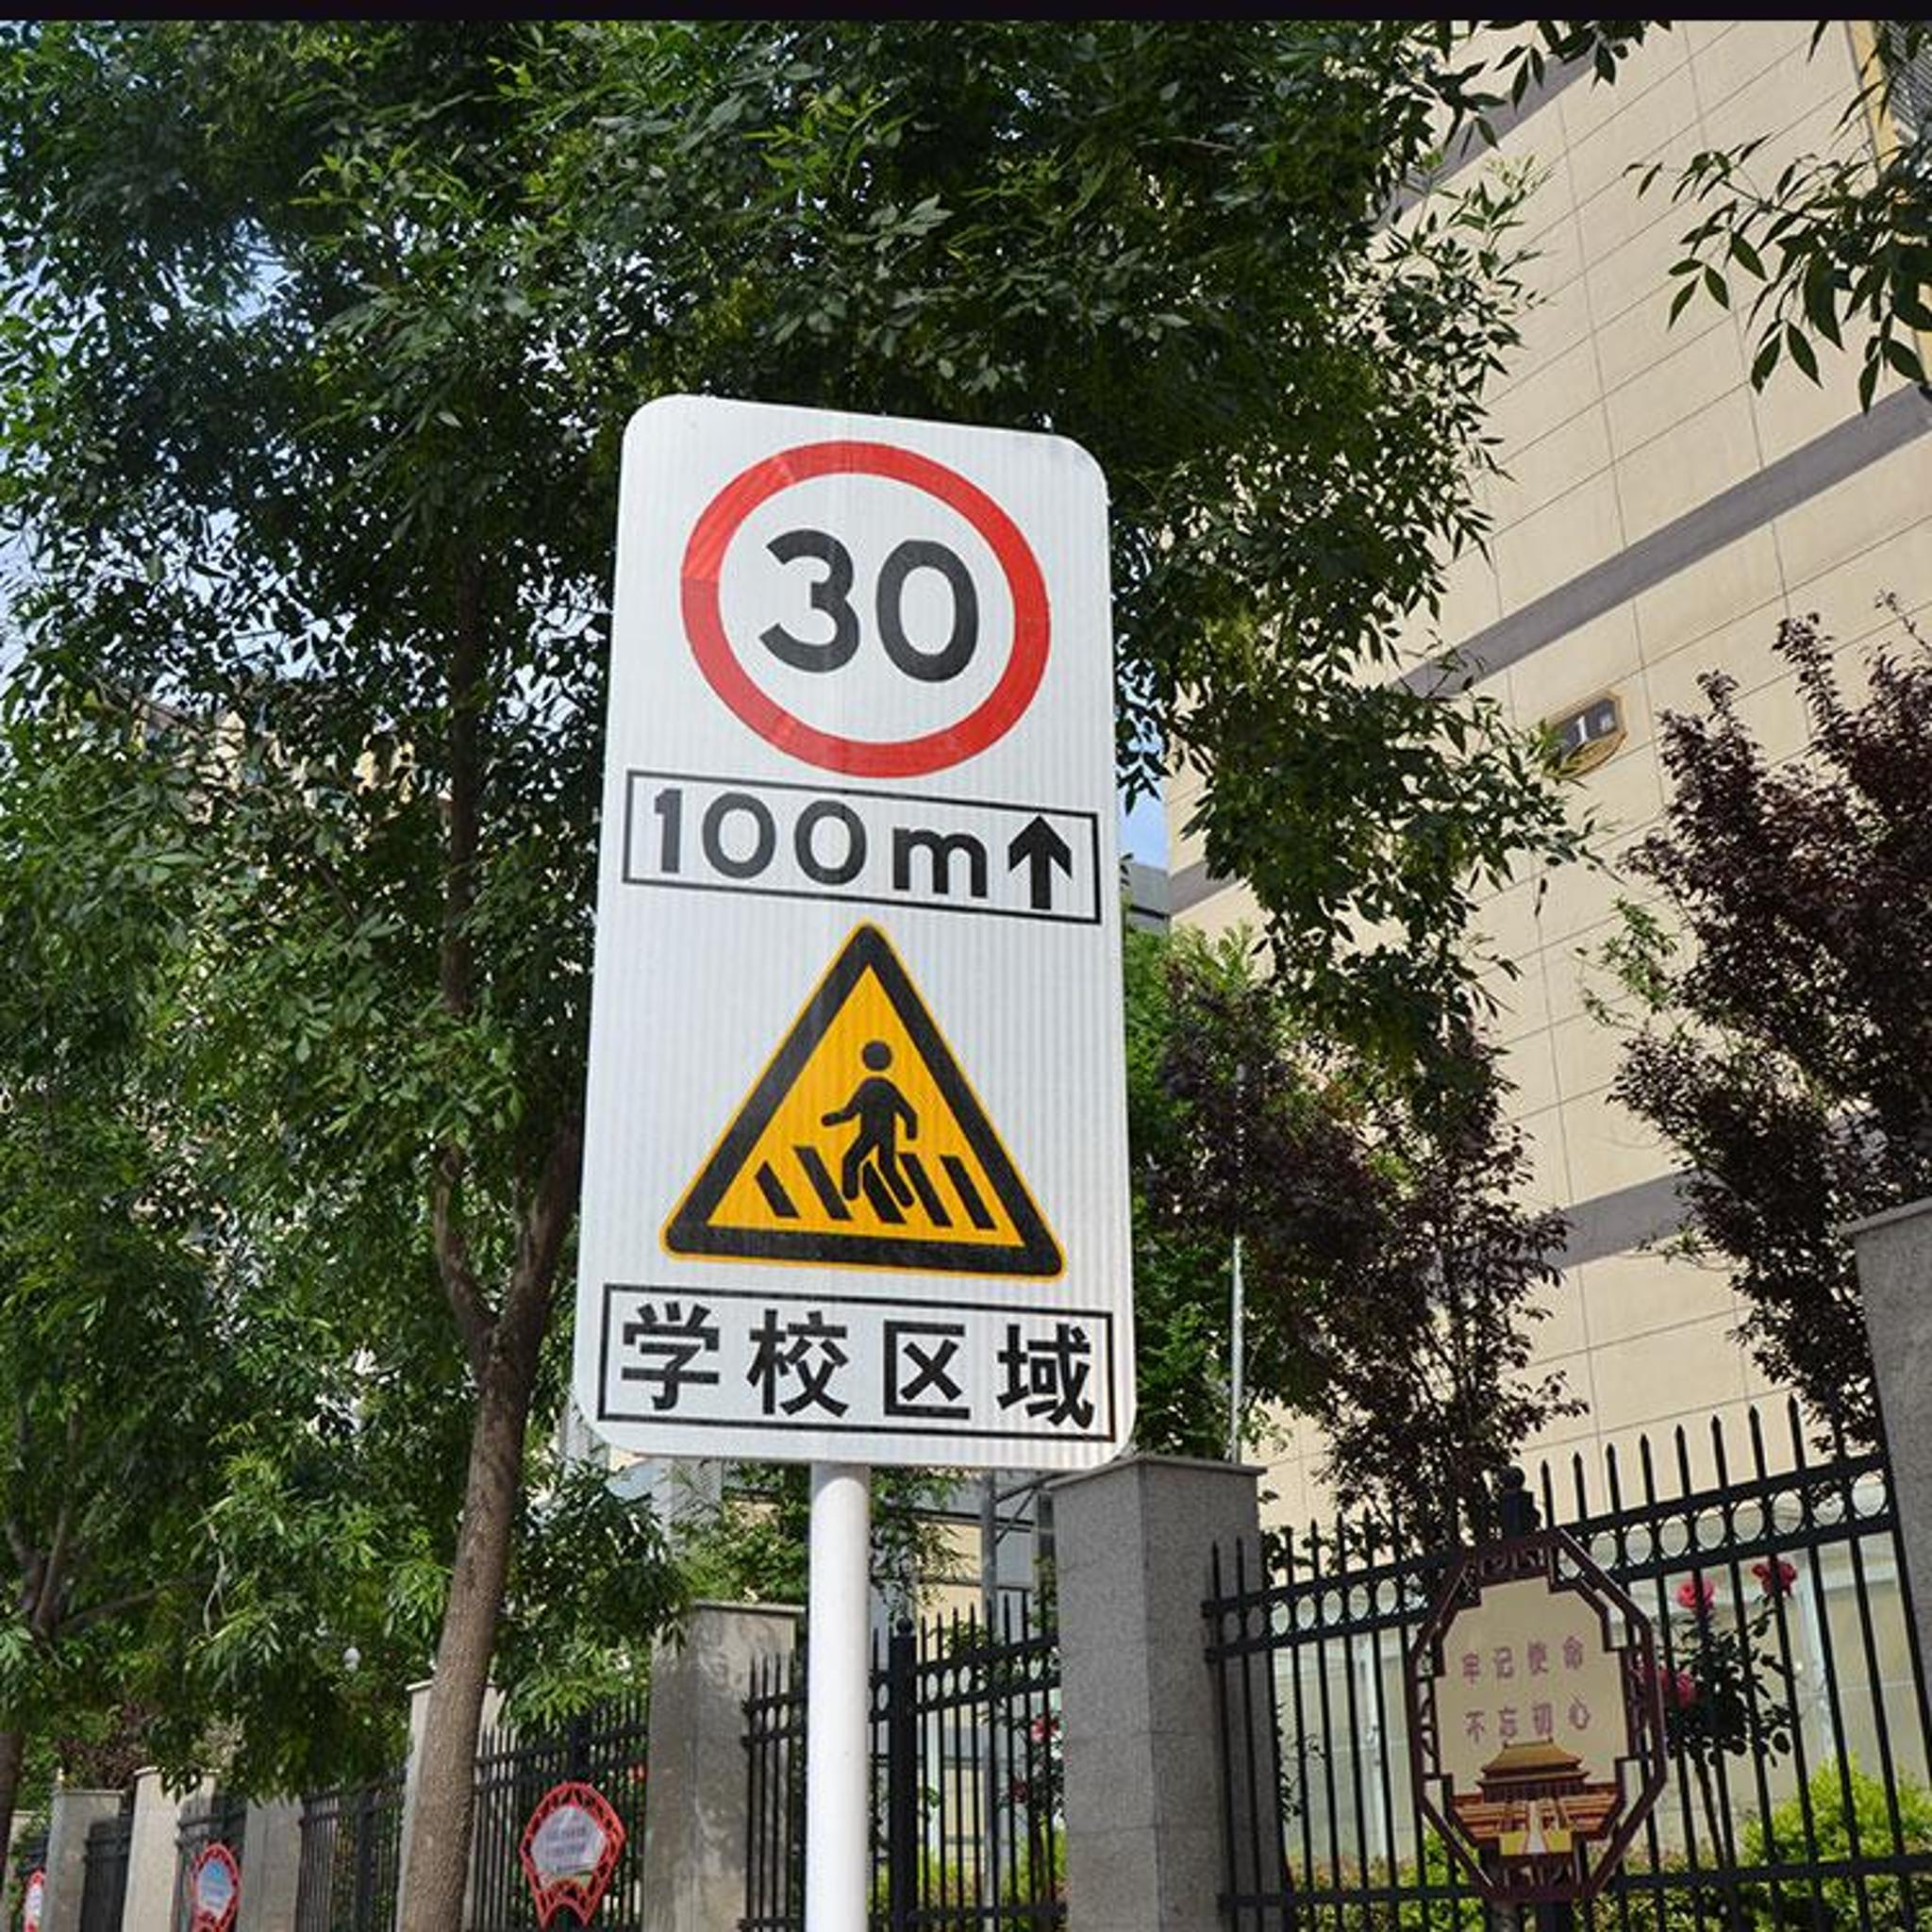pl30: (683, 437, 1053, 778)
w57: (662, 925, 1062, 1279)
